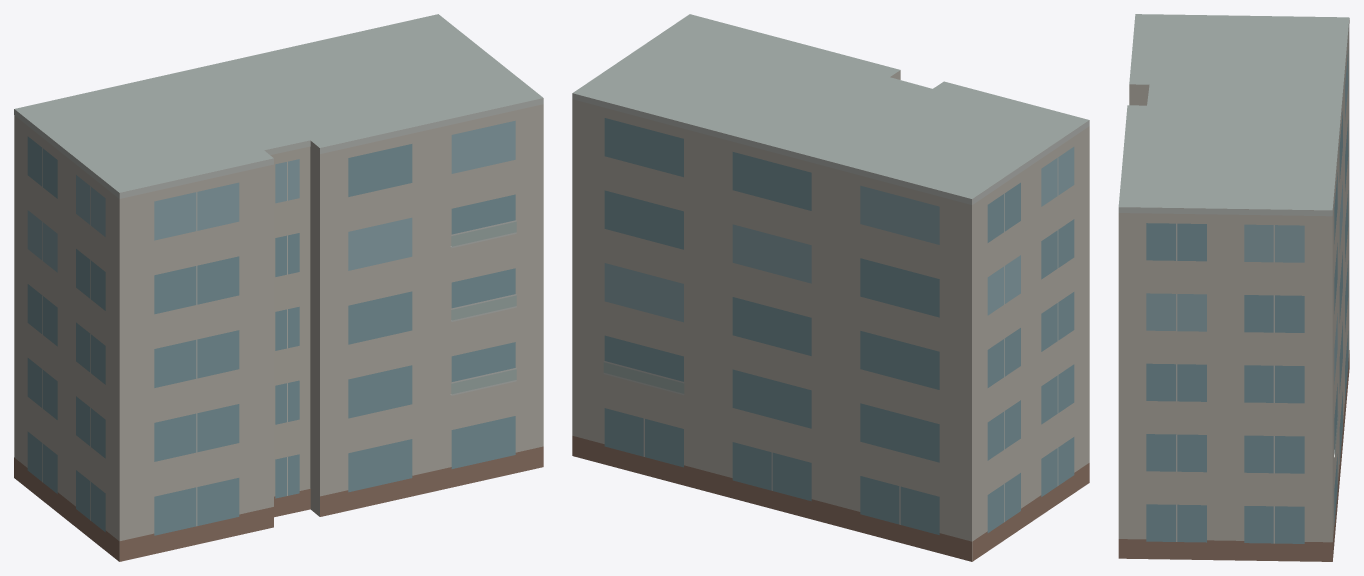
File: survey-upis-32838819.glb
3 renders of one model, left to right at view 1: azimuth 30°, elevation 25°; view 2: azimuth 150°, elevation 25°; view 3: azimuth 270°, elevation 25°, orthographic. The views are drawn at different scales.
Visible parts, largest first — view 1: survey-upis-32838819.tmp; view 2: survey-upis-32838819.tmp; view 3: survey-upis-32838819.tmp.
Part boxes in pixels (x1=…): survey-upis-32838819.tmp: x1=14, y1=14, x2=543, y2=561; survey-upis-32838819.tmp: x1=572, y1=14, x2=1089, y2=561; survey-upis-32838819.tmp: x1=1118, y1=14, x2=1349, y2=561.
Size of the model in its own units: 17.58 by 14.66 by 8.74.
